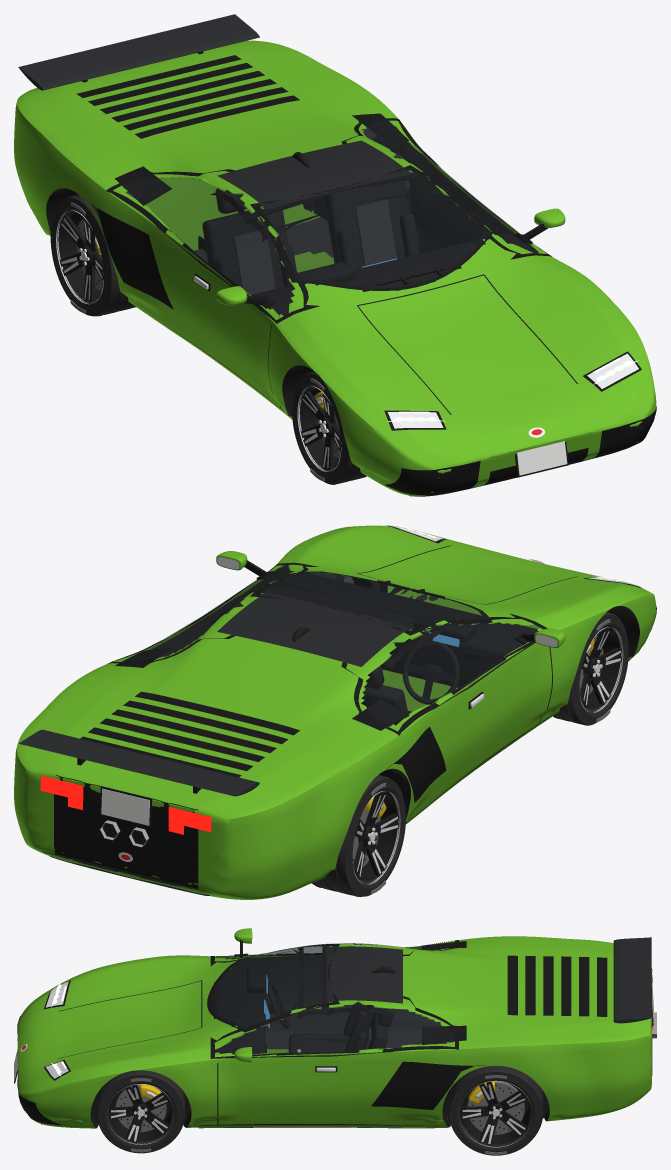
File: revuelto.glb
The picture shows the model from 3 angles, top to bottom: view 1: azimuth 30°, elevation 25°; view 2: azimuth 150°, elevation 25°; view 3: azimuth 270°, elevation 25°; orthographic projection. The views are drawn at different scales.
Visible parts, largest first — view 1: Body, Wheel_RR, Wheel_FR; view 2: Body, Wheel_RR, Wheel_FR; view 3: Body, Wheel_RL, Wheel_FL.
Part boxes in pixels (x1,y1,x2,y2): Body: (14, 14, 656, 496); Wheel_RR: (50, 194, 136, 316); Wheel_FR: (292, 371, 366, 484); Body: (14, 525, 656, 899); Wheel_RR: (311, 775, 405, 896); Wheel_FR: (553, 612, 628, 725); Body: (14, 928, 656, 1128); Wheel_RL: (449, 1066, 543, 1155); Wheel_FL: (97, 1070, 184, 1153).
Bounding box in the file's own units: 2.38 × 1.17 × 5.04.
